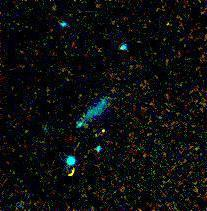star: (88, 113, 118, 143)
